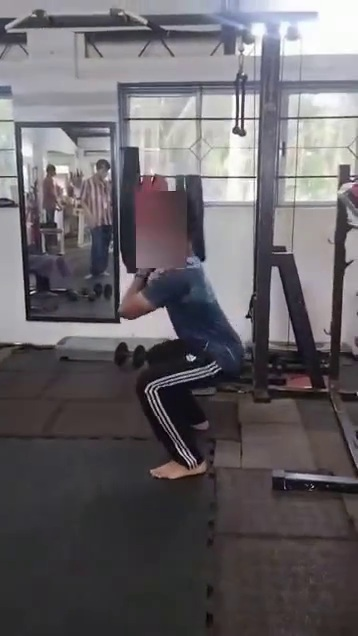squat_correct: (124, 259, 234, 492)
